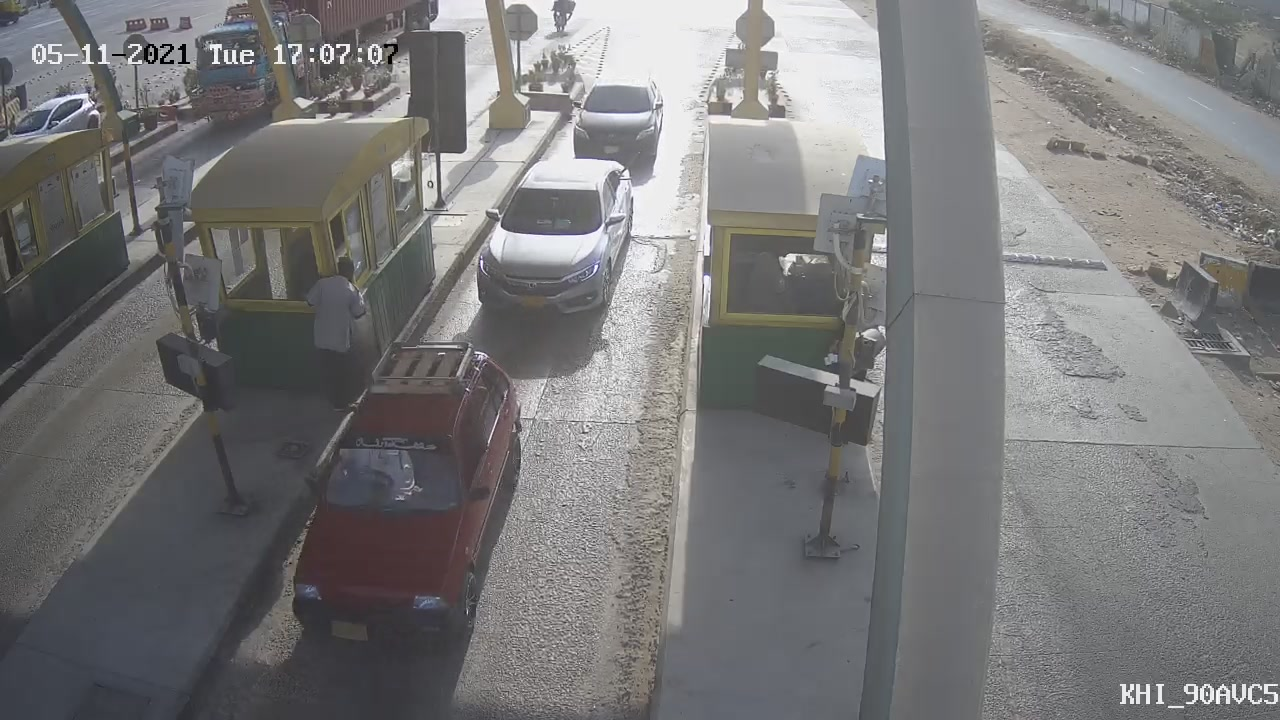F1: (464, 146, 655, 338), (556, 61, 677, 183)
